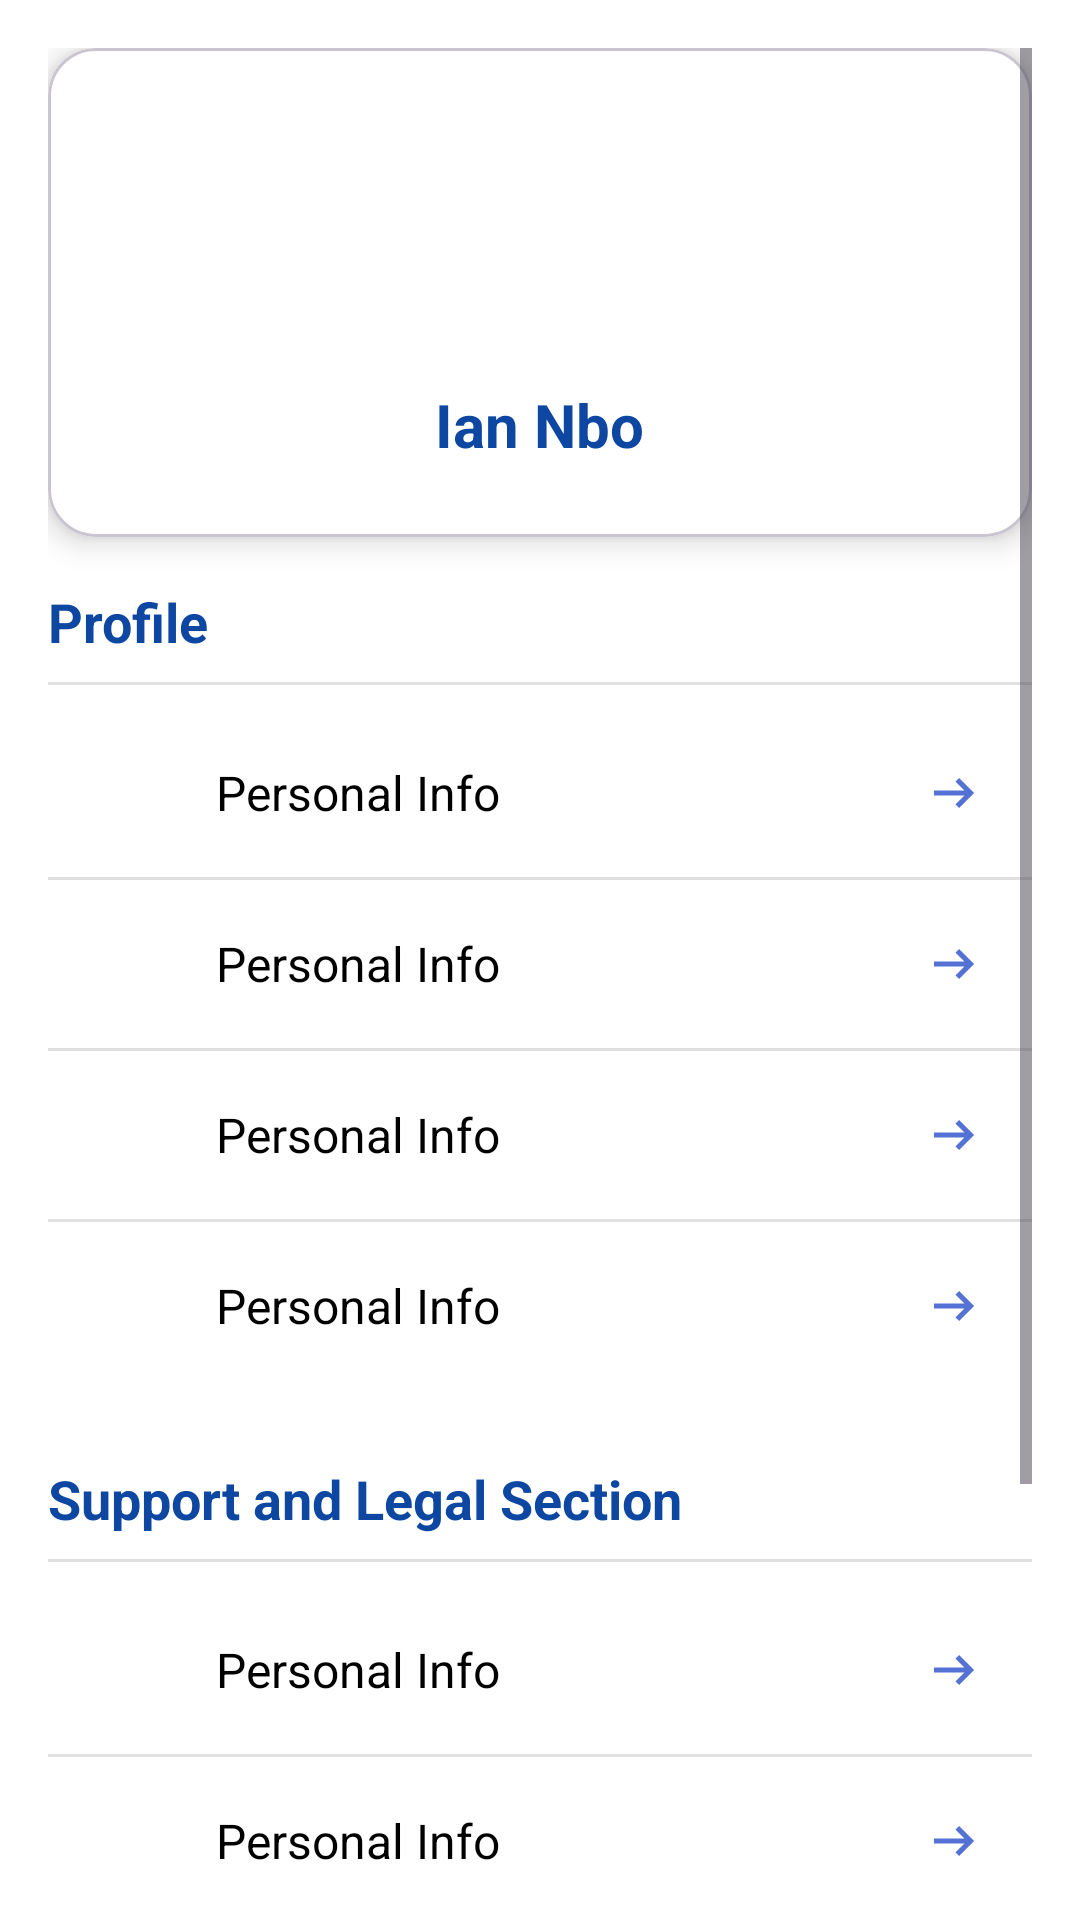

Icon bounding boxes for this 1080x1920 phone screenshot, format bbox=[x1, y1, x2, y2]:
arrow right: bbox=[934, 778, 974, 808], bbox=[934, 949, 974, 979], bbox=[934, 1120, 974, 1150], bbox=[934, 1291, 974, 1321], bbox=[934, 1655, 974, 1685], bbox=[934, 1826, 974, 1856]
